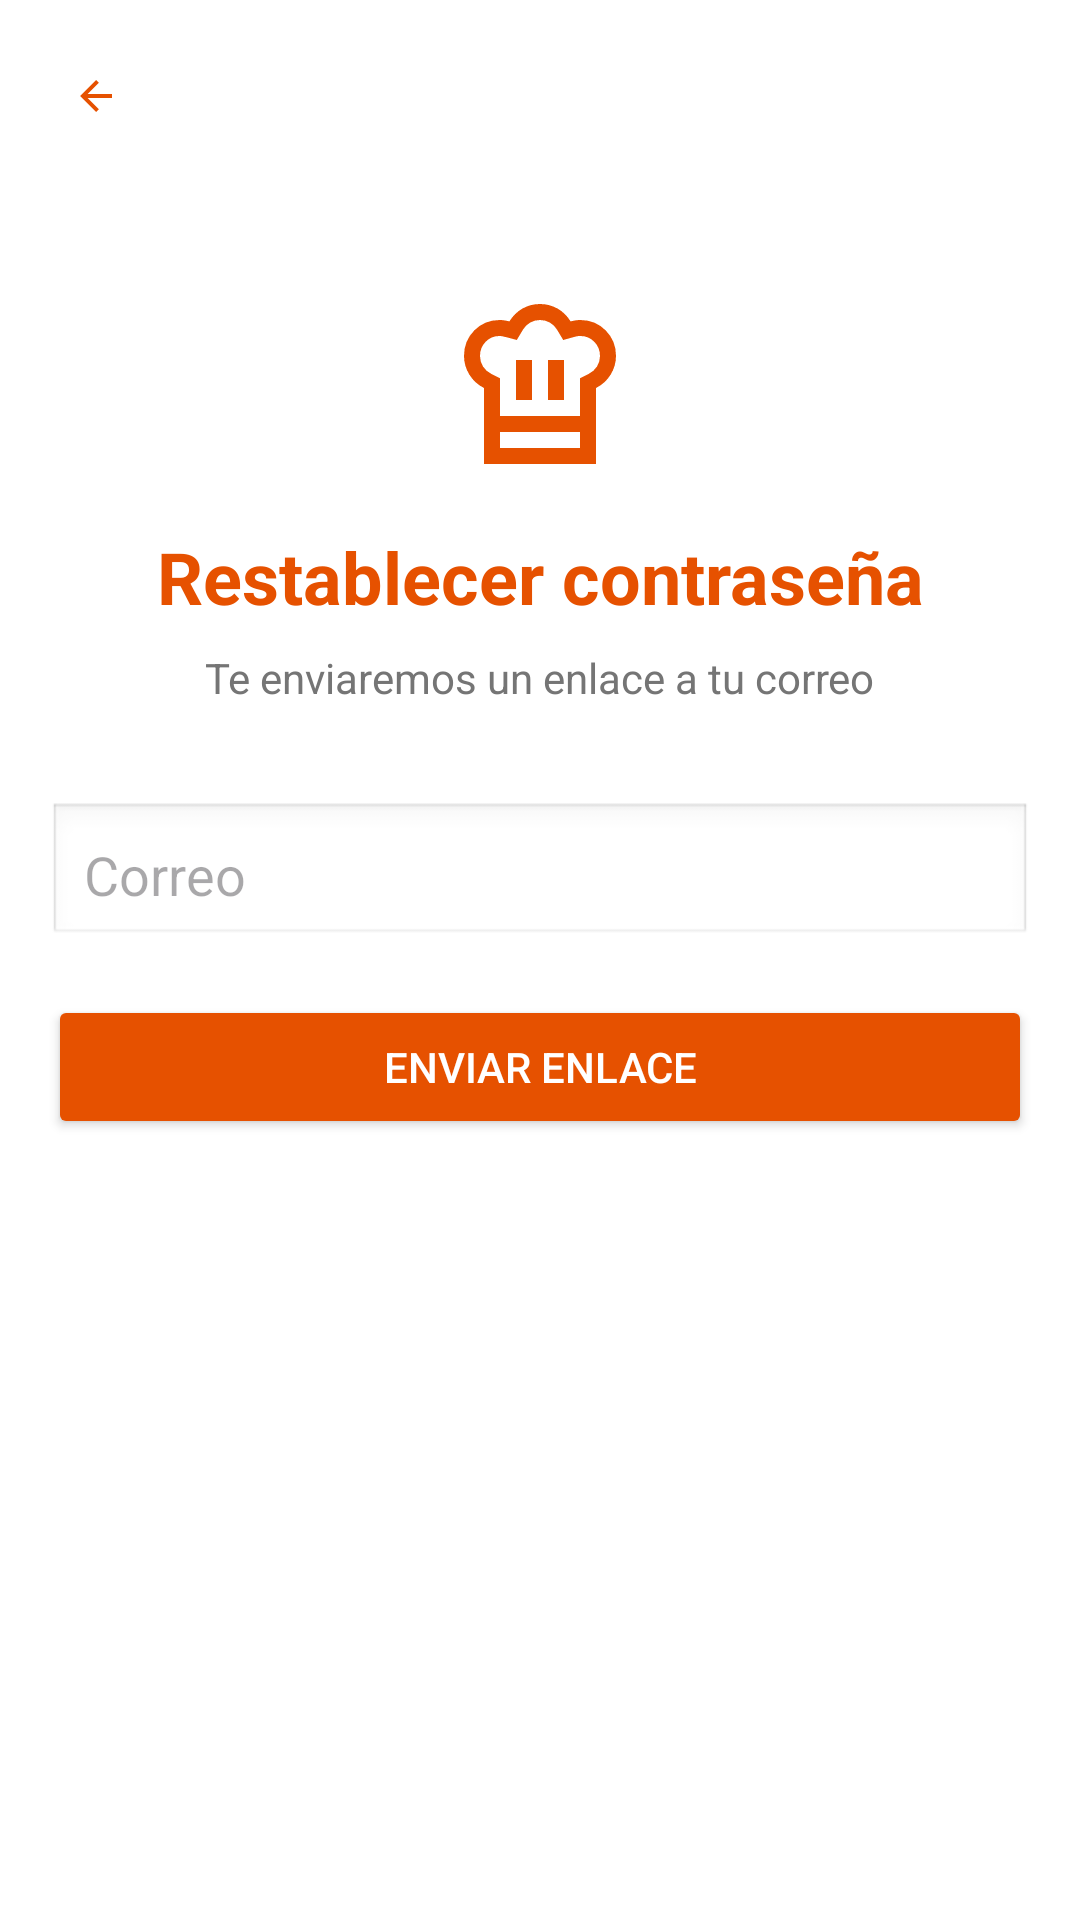

Point at icon controls on the screen. Image size 1080 × 1920, points as [x,y].
Regresar: [96,96]
